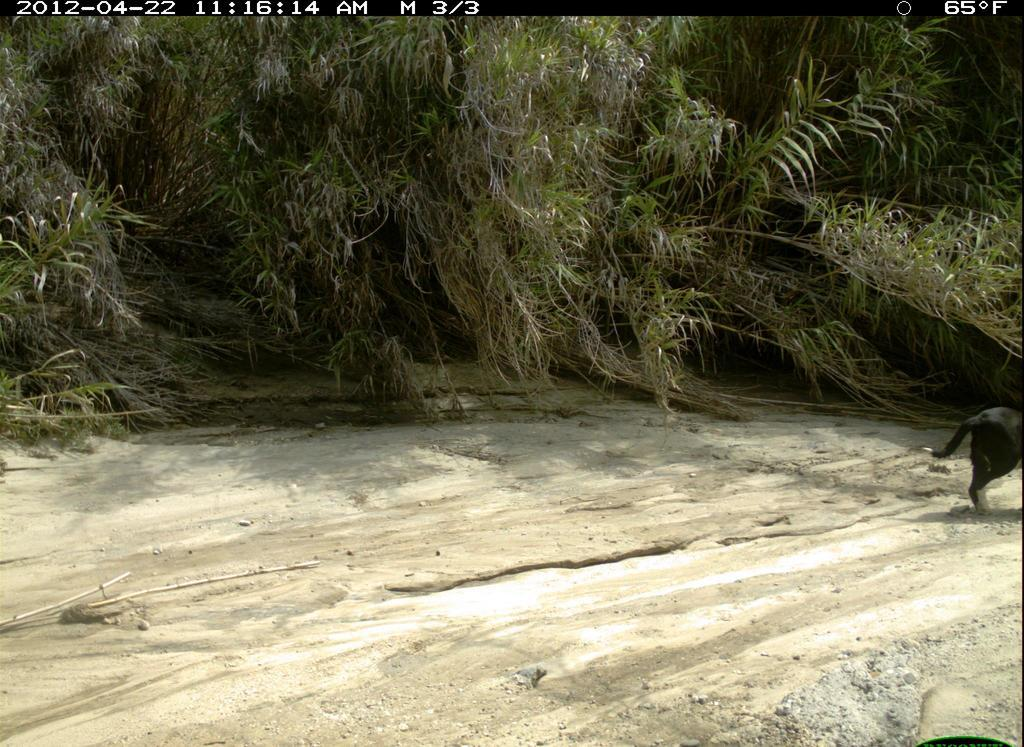dog: (927, 376, 1019, 518)
